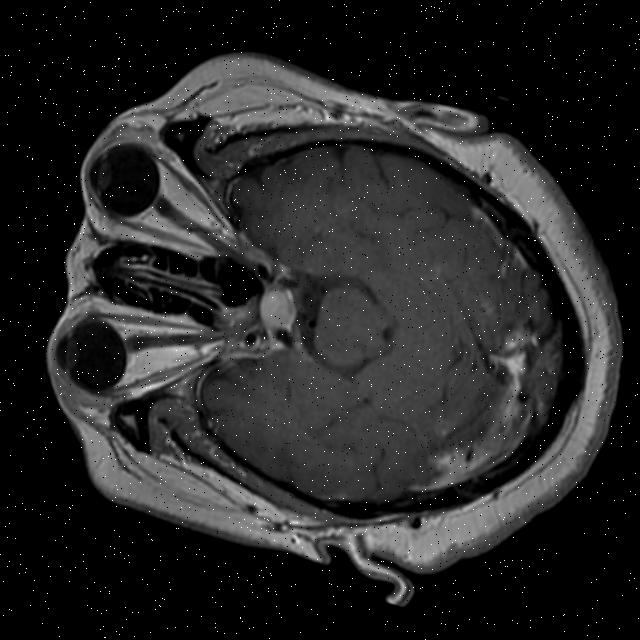Pituitary: (253, 282, 303, 336)
